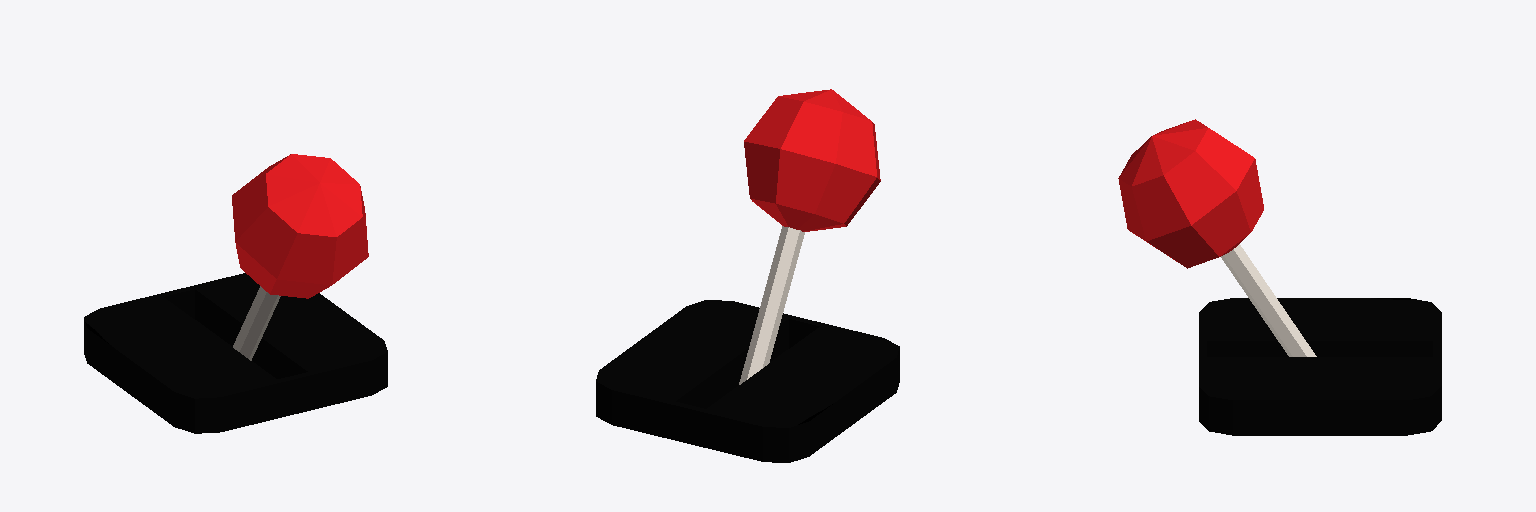
The picture shows the model from 3 angles: view 1: azimuth 30°, elevation 25°; view 2: azimuth 150°, elevation 25°; view 3: azimuth 270°, elevation 25°; orthographic projection.
Visible parts, largest first — view 1: 円柱; view 2: 円柱; view 3: 円柱.
Part boxes in pixels (x1,y1,x2,y2): 円柱: (84,154,387,433); 円柱: (596,89,899,462); 円柱: (1118,119,1441,435).
Bounding box in the file's own units: 1.69 × 1.97 × 2.25.
1 materials, 1 textured.